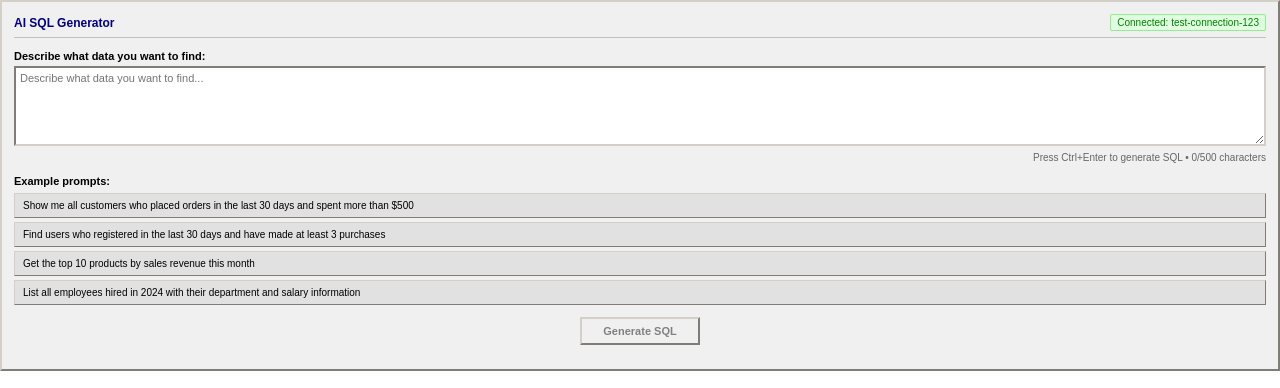
it: AIQueryGenerator › User Input Handling › handles example prompt selection
The width and height of the screenshot is (1280, 388).
What coordinates should you click on to do the following:
click the button "Show me all customers who placed orders in the last 30 days"
I would click on:
 (218, 206)
Its box is [14,193,1266,218].
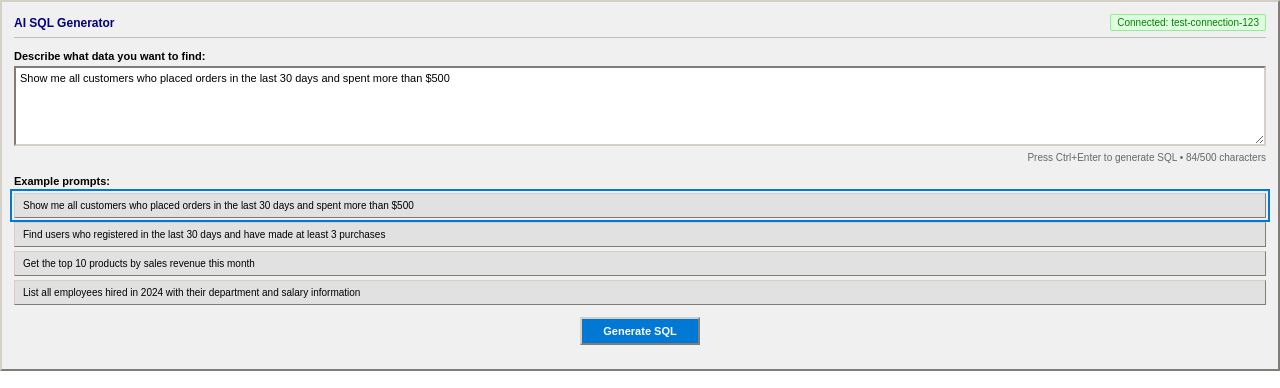
Result: the text box labelled "Describe what data you want to find:" holds "Show me all customers who placed orders in the last 30 days and spent more than $500" at [14,66,1266,146]
